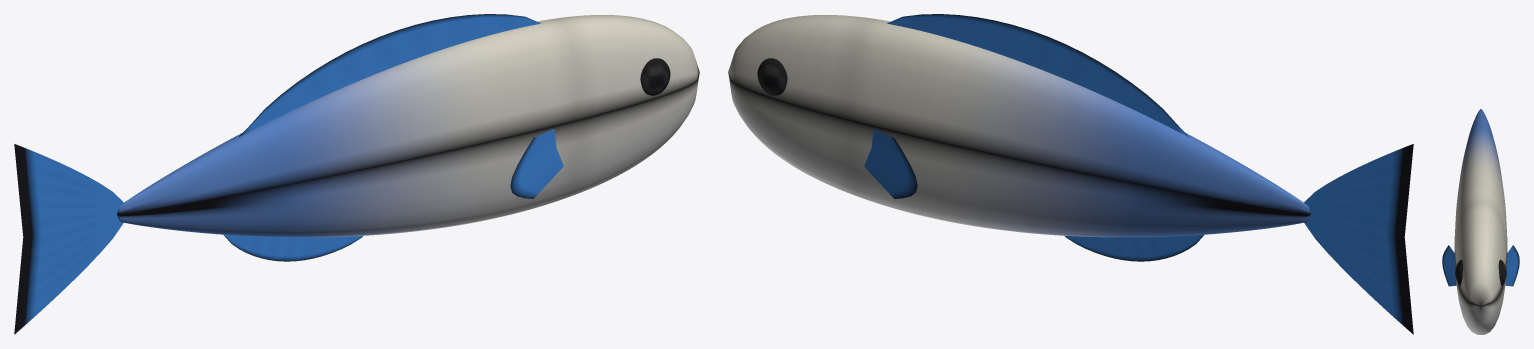
The model's file is temizlikci.glb.
3 renders of one model, left to right at view 1: azimuth 30°, elevation 25°; view 2: azimuth 150°, elevation 25°; view 3: azimuth 270°, elevation 25°, orthographic. The views are drawn at different scales.
Visible parts, largest first — view 1: temizlikci_govde, temizlikci_kuyruk, temizlikci_sirt, temizlikci_anal_a, temizlikci_gogusL, temizlikci_gozL; view 2: temizlikci_govde, temizlikci_kuyruk, temizlikci_sirt, temizlikci_anal_a, temizlikci_gogusR, temizlikci_gozR; view 3: temizlikci_govde, temizlikci_gogusL, temizlikci_gogusR, temizlikci_gozL, temizlikci_gozR.
Boxes of the visible parts, left/top/right/bottom form: temizlikci_govde: left=117, top=15, right=699, bottom=237; temizlikci_kuyruk: left=14, top=144, right=123, bottom=334; temizlikci_sirt: left=238, top=14, right=540, bottom=137; temizlikci_anal_a: left=223, top=234, right=363, bottom=261; temizlikci_gogusL: left=510, top=129, right=563, bottom=198; temizlikci_gozL: left=640, top=58, right=670, bottom=95; temizlikci_govde: left=728, top=15, right=1310, bottom=237; temizlikci_kuyruk: left=1304, top=144, right=1413, bottom=334; temizlikci_sirt: left=887, top=14, right=1189, bottom=137; temizlikci_anal_a: left=1064, top=234, right=1204, bottom=261; temizlikci_gogusR: left=864, top=129, right=917, bottom=198; temizlikci_gozR: left=757, top=58, right=787, bottom=95; temizlikci_govde: left=1454, top=109, right=1507, bottom=334; temizlikci_gogusL: left=1442, top=245, right=1456, bottom=286; temizlikci_gogusR: left=1505, top=245, right=1519, bottom=286; temizlikci_gozL: left=1455, top=259, right=1463, bottom=285; temizlikci_gozR: left=1498, top=259, right=1506, bottom=285.
Bounding box in the file's own units: 0.975 × 0.2885 × 0.1406.
